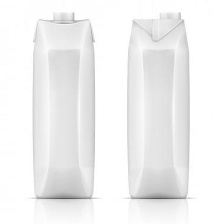carton: (26, 10, 103, 201), (123, 8, 194, 202)
